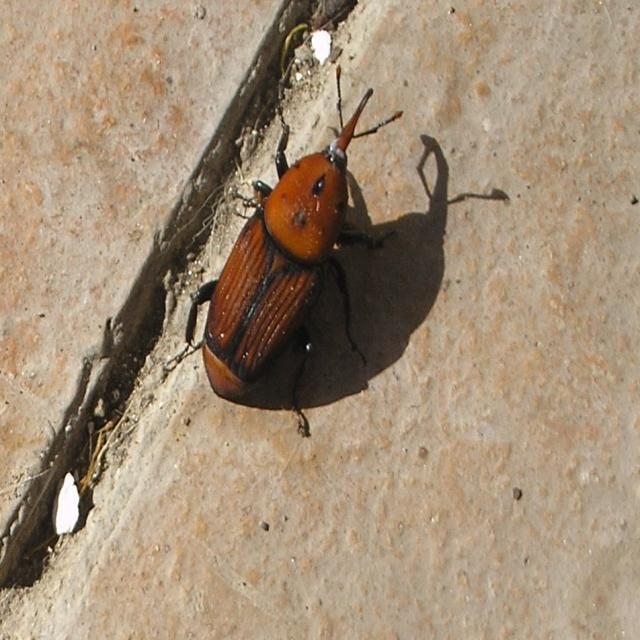Red-palm-weevil: (156, 54, 406, 444)
